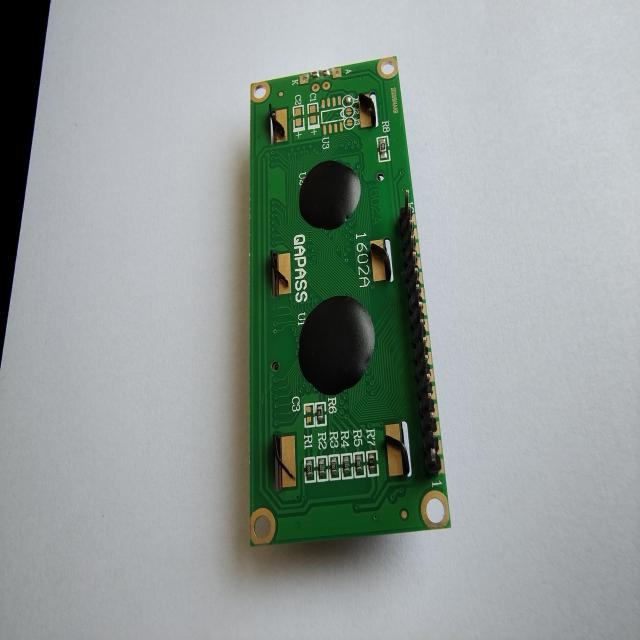lcd: (246, 55, 452, 548)
